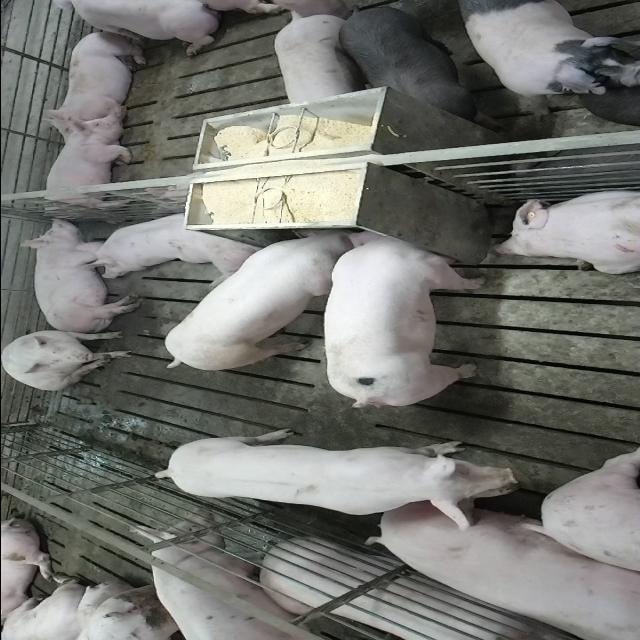Feeding: (320, 228, 485, 414), (161, 228, 359, 376)
Lateral_lying: (15, 216, 142, 334)
Sitting: (2, 328, 134, 391)
Standing: (151, 428, 528, 516), (140, 514, 340, 640), (338, 2, 504, 132), (457, 3, 635, 111), (273, 13, 359, 108)
Sternal_lying: (368, 497, 640, 640), (489, 186, 640, 274), (71, 207, 259, 274), (42, 28, 150, 130), (37, 113, 137, 216), (36, 3, 223, 55)
